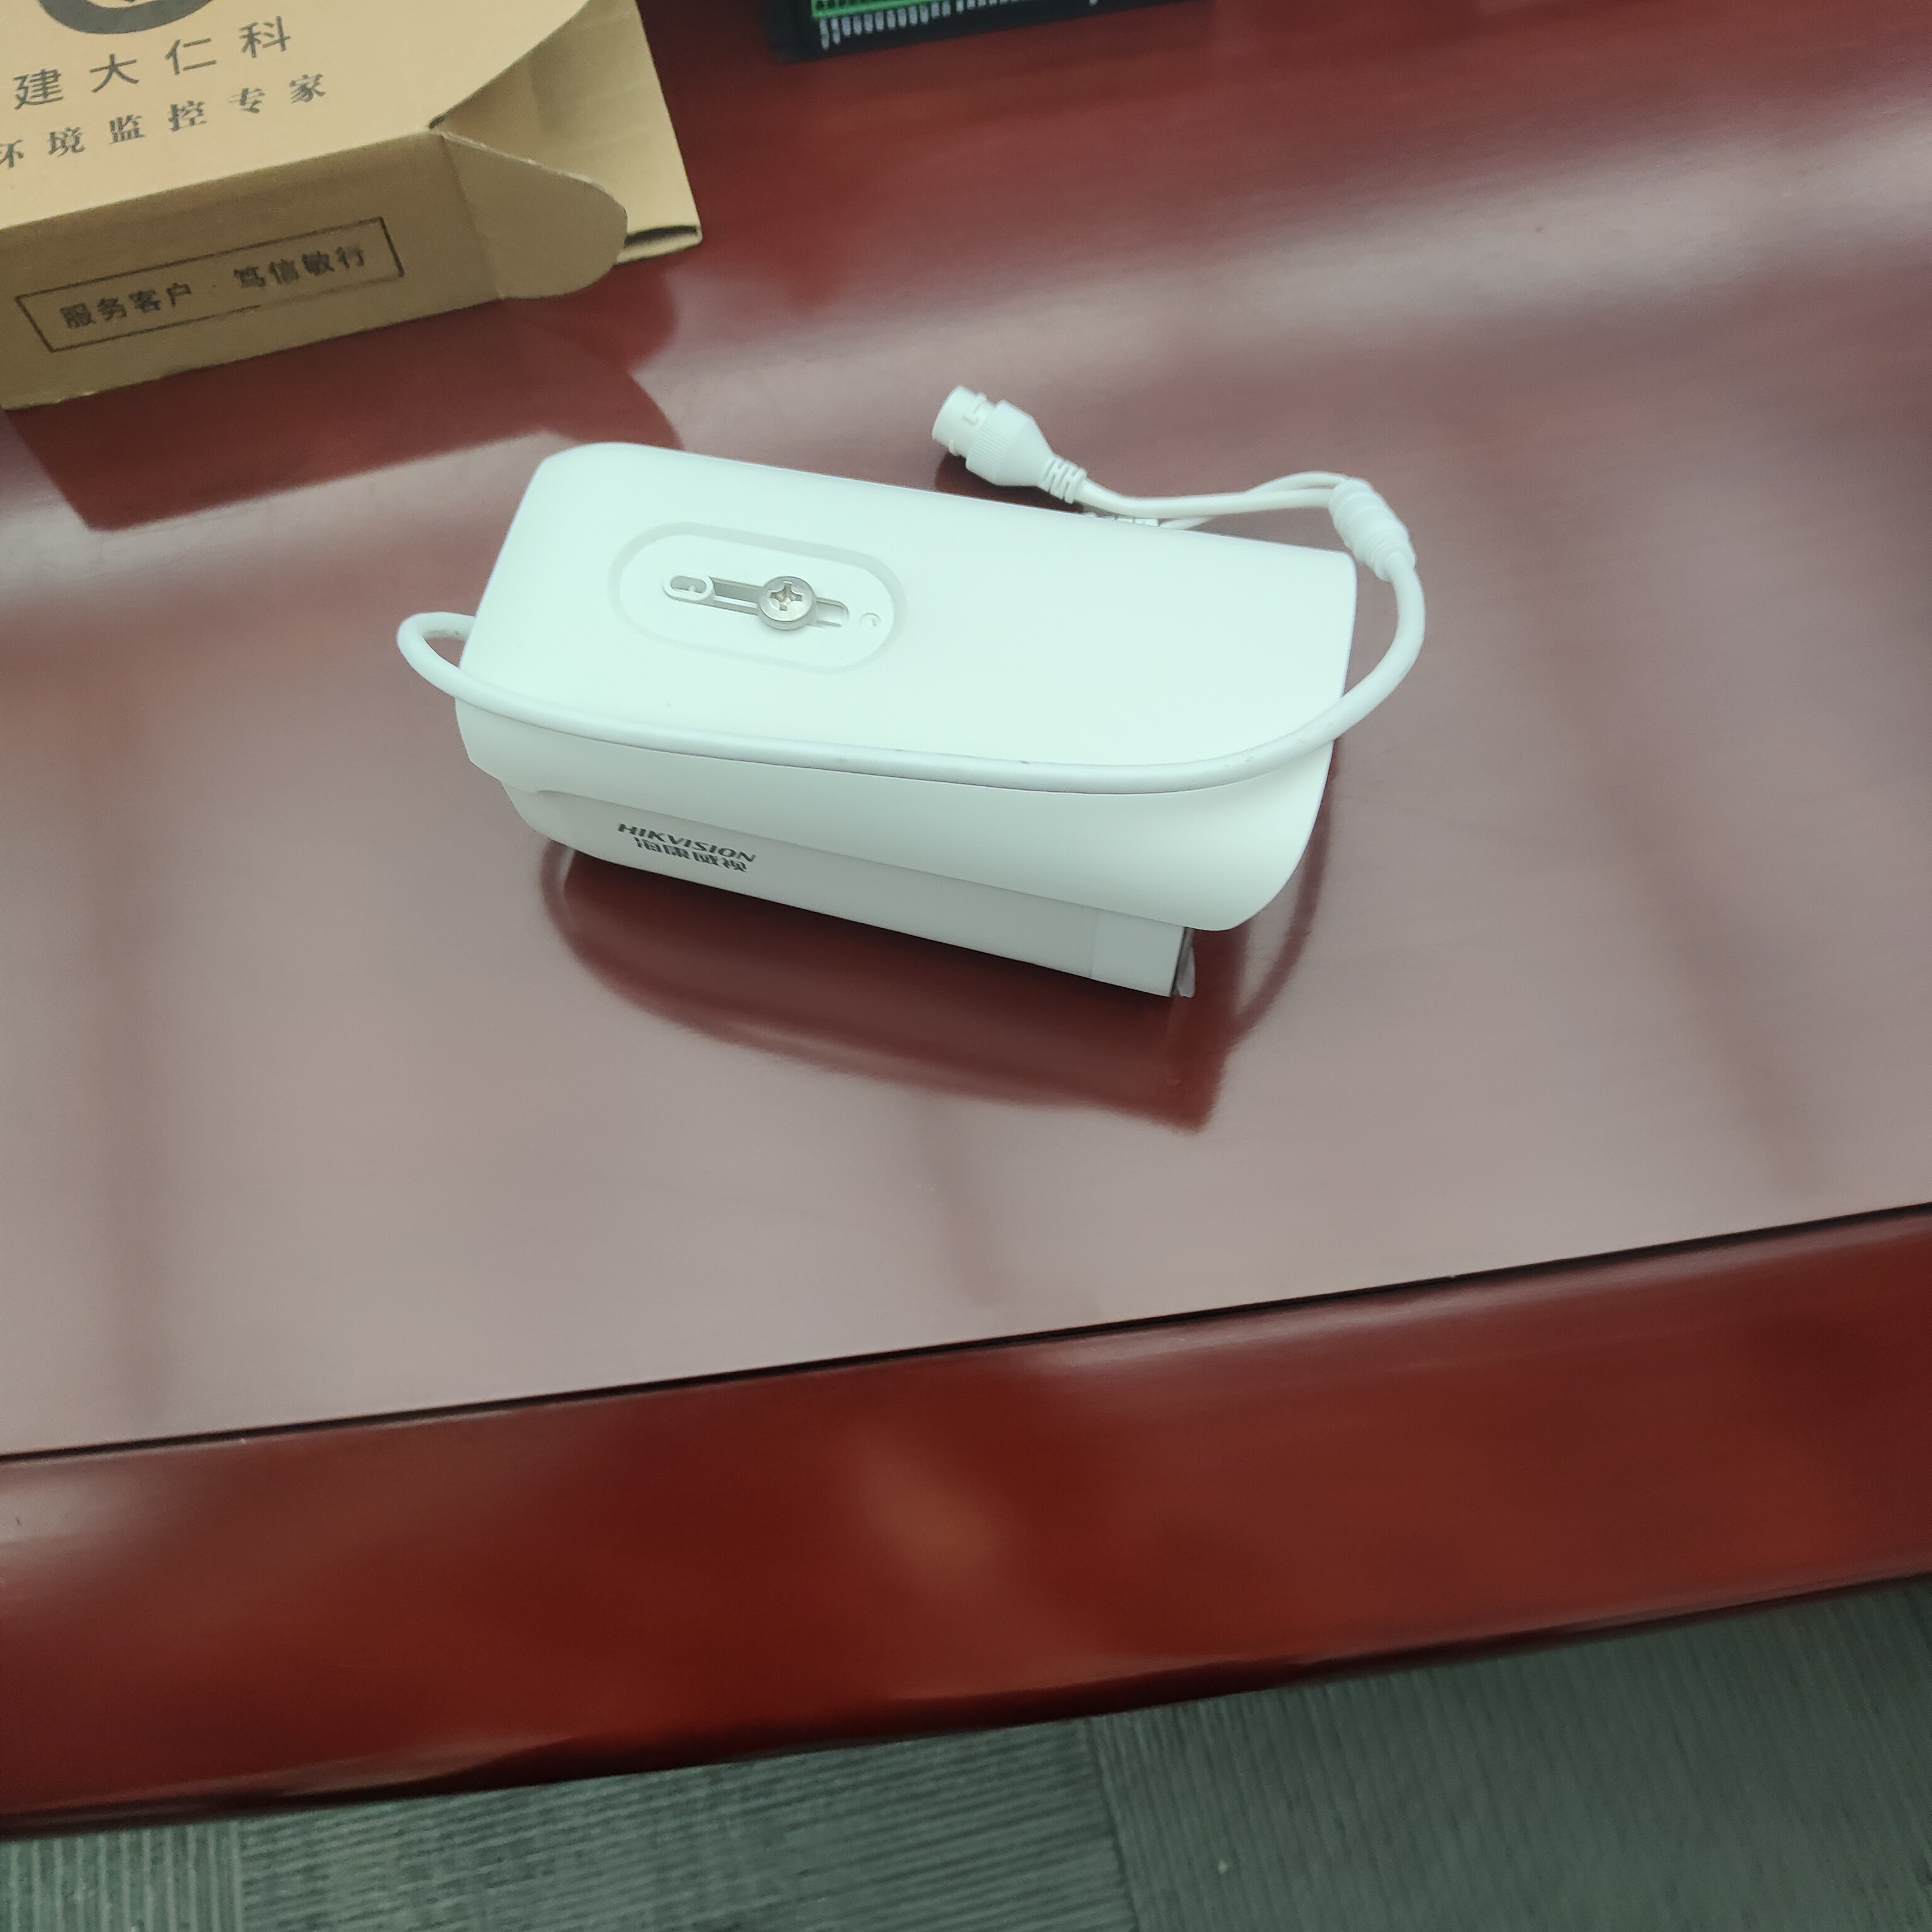hkws: (395, 423, 1384, 1049)
